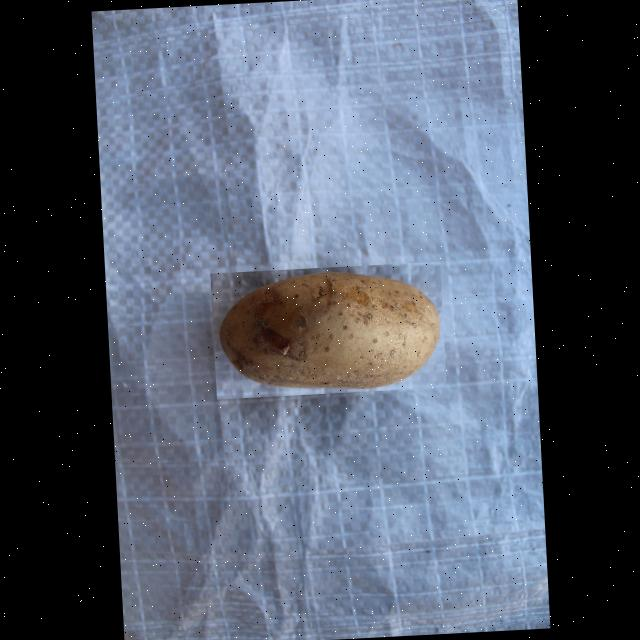Diseased-fungal potato: (210, 262, 446, 399)
